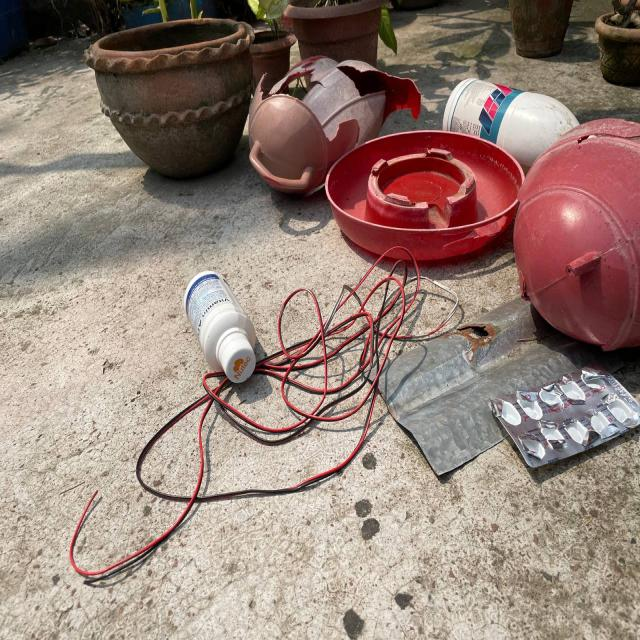Cable: (56, 394, 250, 590), (261, 256, 407, 487)
Medical Waste: (501, 377, 640, 486)
Metal: (401, 317, 512, 505)
Plastics: (253, 44, 521, 241), (530, 79, 640, 345), (170, 254, 256, 386)
